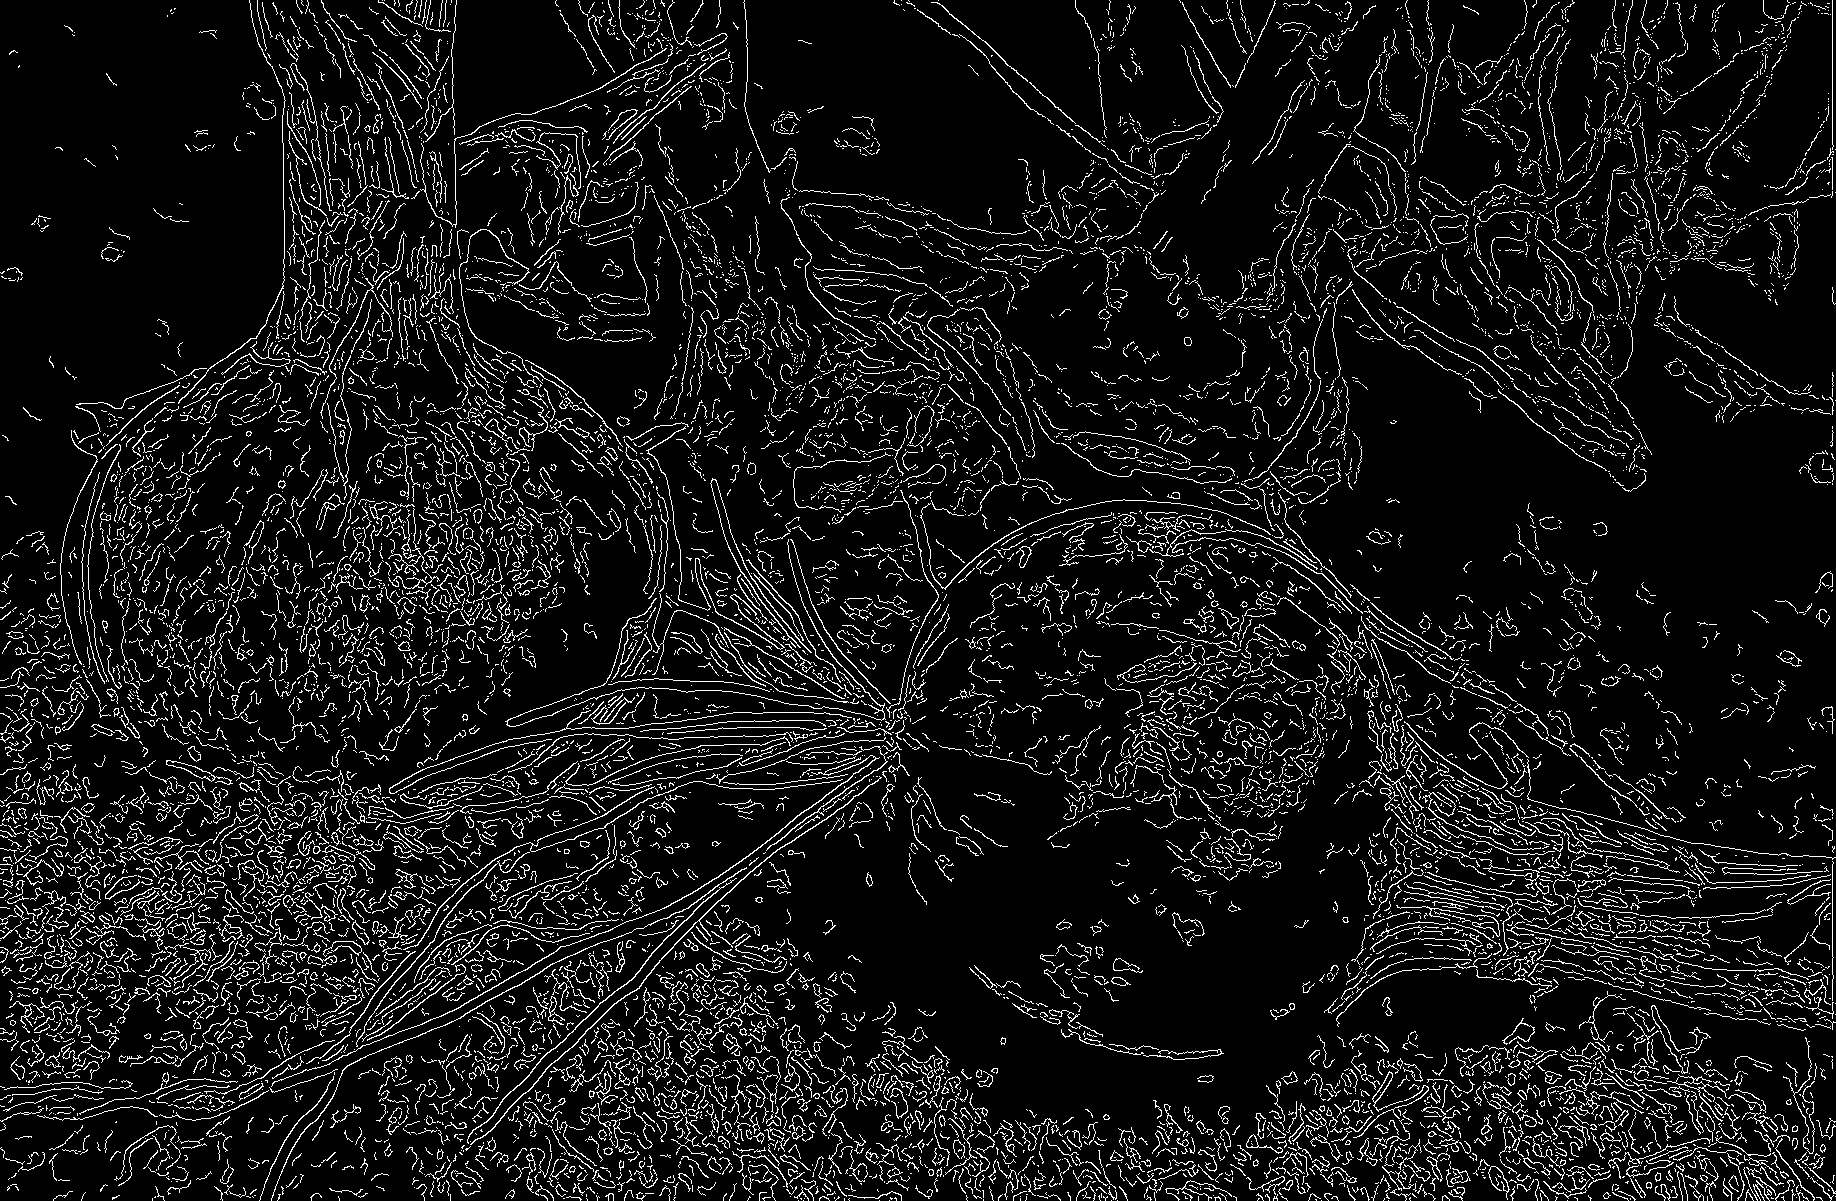red_onion: (635, 479, 1835, 1129), (34, 50, 651, 822), (922, 1, 1388, 538), (525, 13, 968, 450)
